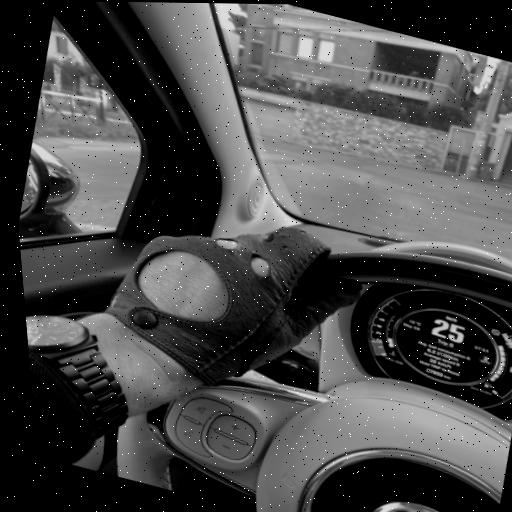Hands-on-the-Wheel: (24, 146, 403, 447)
